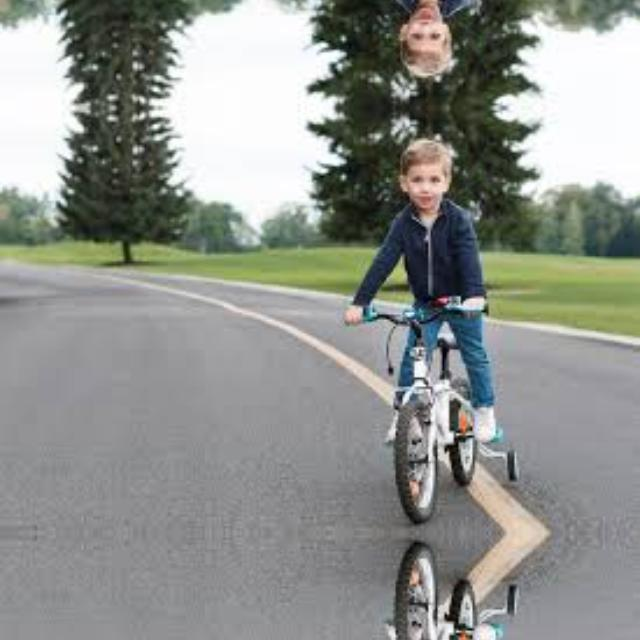obstacle: (344, 298, 520, 522), (344, 543, 519, 640)
